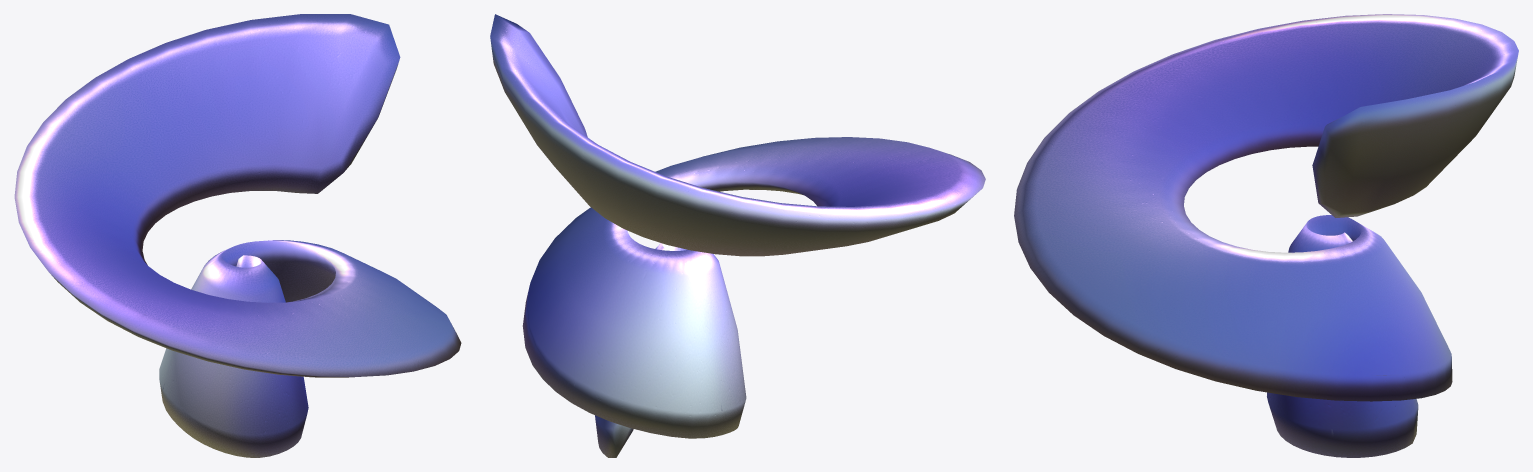
File: SwirlChair.glb
The picture shows the model from 3 angles, left to right: view 1: azimuth 30°, elevation 25°; view 2: azimuth 150°, elevation 25°; view 3: azimuth 270°, elevation 25°; orthographic projection. The views are drawn at different scales.
Visible parts, largest first — view 1: Spiral; view 2: Spiral; view 3: Spiral.
Part boxes in pixels (box(x1,y1,x2,y2)): Spiral: box(14, 14, 461, 457); Spiral: box(490, 14, 985, 457); Spiral: box(1014, 14, 1518, 457).
Size of what is drawn, in the model's own units: 1.67 by 1.52 by 1.71.
Materials: 1 (1 with a texture image).
